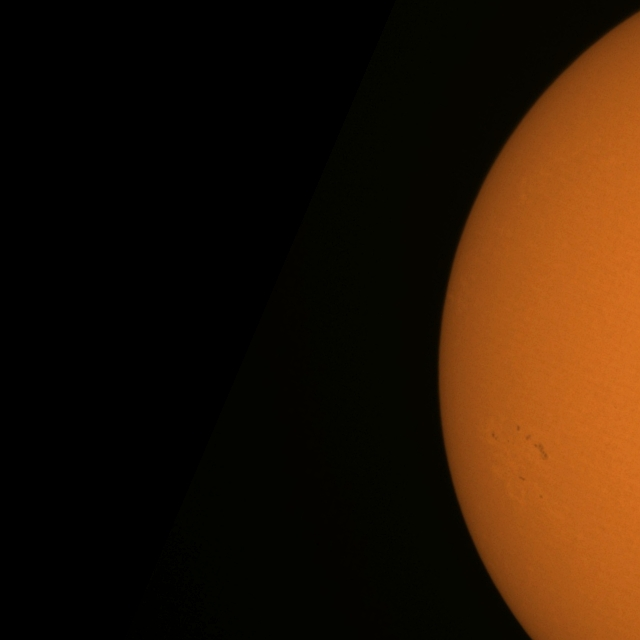sunspot: (522, 431, 550, 460), (531, 440, 549, 461), (490, 431, 498, 441), (518, 475, 526, 482), (516, 424, 521, 432), (538, 494, 544, 500)
